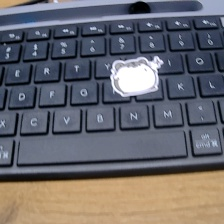mouse: (106, 50, 168, 101)
